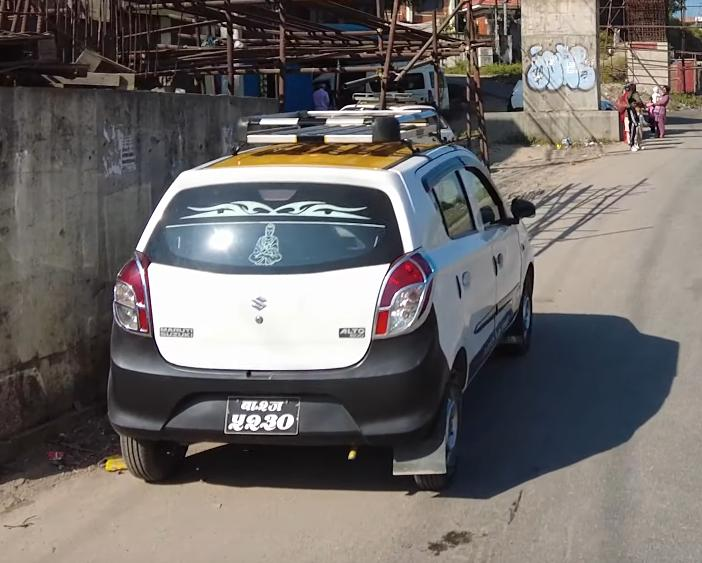taxi: (98, 90, 555, 498)
